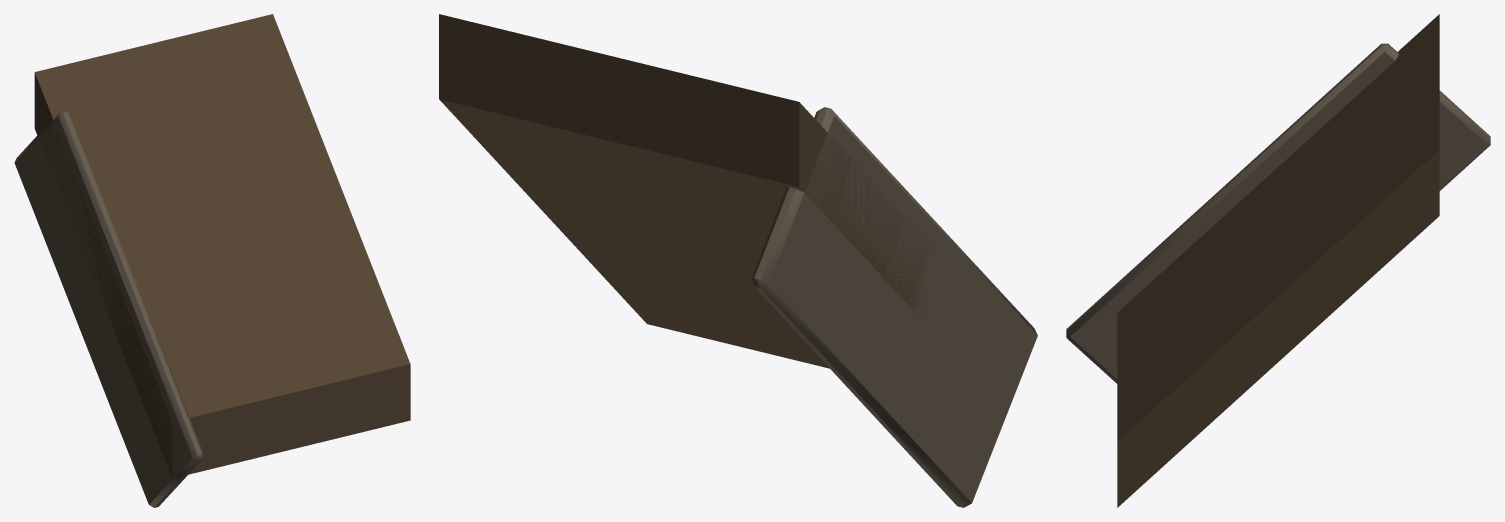
The model's file is dach_ecke_l.glb.
The picture shows the model from 3 angles, left to right: view 1: azimuth 30°, elevation 25°; view 2: azimuth 150°, elevation 25°; view 3: azimuth 270°, elevation 25°; orthographic projection. The views are drawn at different scales.
Parts seen in each view (by area): view 1: dach_ecke_l; view 2: dach_ecke_l; view 3: dach_ecke_l.
Part boxes in pixels (x1=…): dach_ecke_l: x1=14, y1=14, x2=410, y2=507; dach_ecke_l: x1=439, y1=14, x2=1037, y2=507; dach_ecke_l: x1=1066, y1=14, x2=1490, y2=507.
Size of the model in its own units: 0.5 by 0.7058 by 0.6584.
